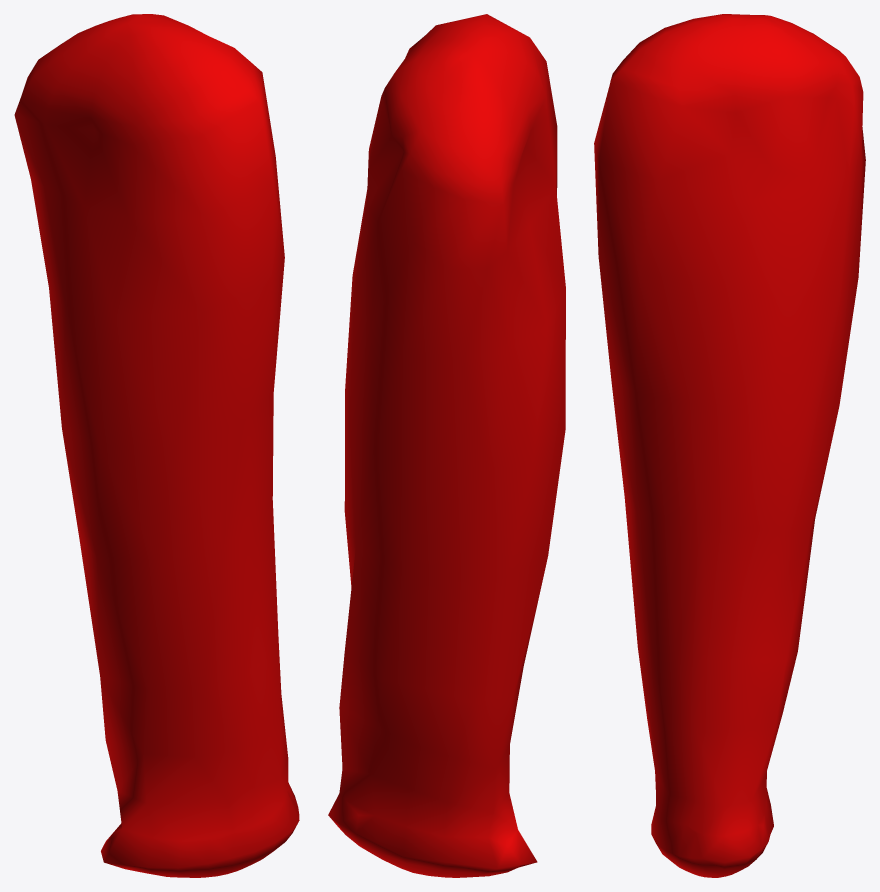
File: ArmLower.dae
3 views of the same model, side by side, from view 1: azimuth 30°, elevation 25°; view 2: azimuth 150°, elevation 25°; view 3: azimuth 270°, elevation 25° (orthographic). The views are drawn at different scales.
Parts seen in each view (by area): view 1: ArmLower; view 2: ArmLower; view 3: ArmLower.
Boxes of the visible parts, box(x1,y1,x2,y2) form: ArmLower: box(14, 14, 299, 877); ArmLower: box(328, 14, 565, 877); ArmLower: box(594, 14, 865, 877).
Size of the model in its own units: 0.0749 by 0.0808 by 0.2712.
